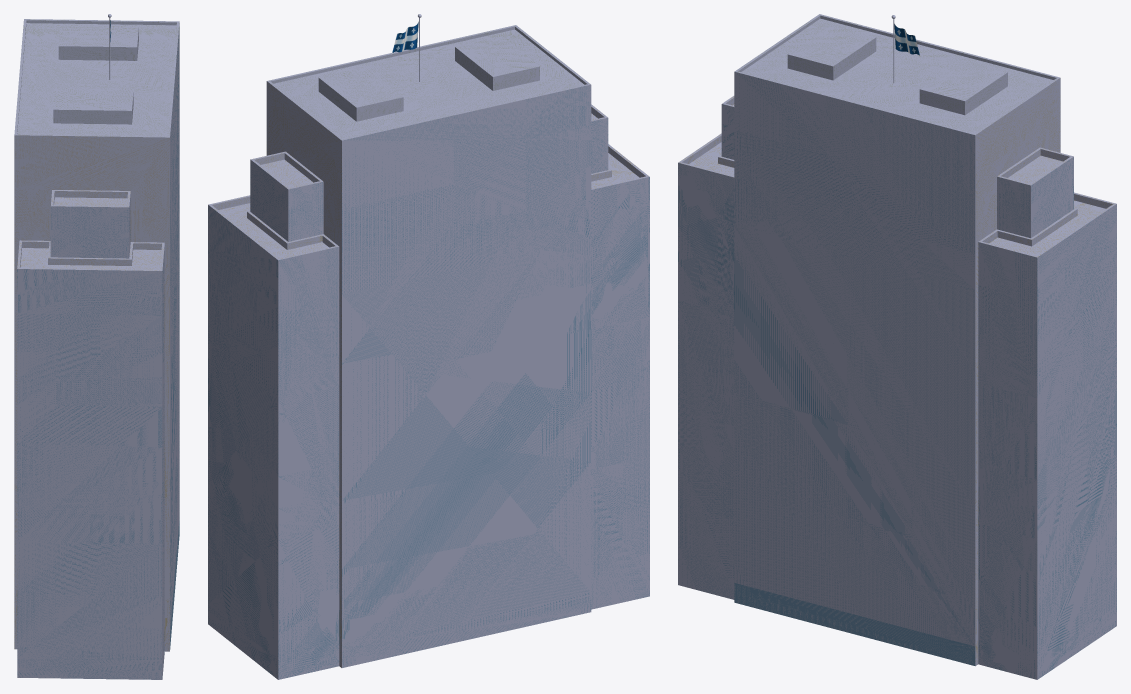
Rendered from hydro.fbx.
3 views of the same model, side by side, from view 1: azimuth 30°, elevation 25°; view 2: azimuth 150°, elevation 25°; view 3: azimuth 270°, elevation 25° (orthographic). The views are drawn at different scales.
Parts seen in each view (by area): view 1: Group1; view 2: Group1; view 3: Group1.
Part boxes in pixels (bbox=[...]): Group1: bbox=[14, 14, 179, 679]; Group1: bbox=[208, 14, 649, 679]; Group1: bbox=[678, 14, 1116, 679].
Bounding box in the file's own units: 65.61 × 123 × 81.83.
